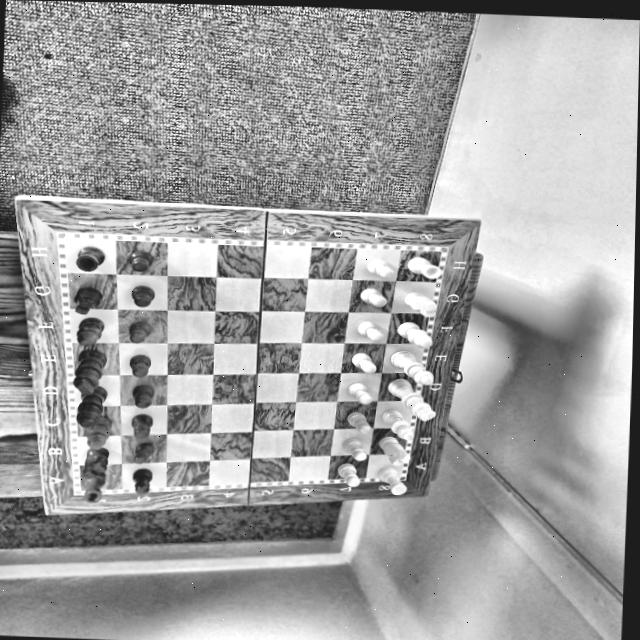black-bishop: (73, 316, 107, 353), (81, 416, 115, 450)
black-king: (67, 350, 115, 398)
black-knight: (69, 285, 109, 321), (77, 446, 113, 482)
black-pawn: (124, 466, 162, 498), (129, 383, 160, 410), (129, 410, 156, 439), (131, 282, 160, 308), (125, 353, 156, 377), (130, 441, 161, 464), (128, 247, 157, 271), (127, 319, 150, 344)
black-queen: (70, 385, 112, 431)
black-rook: (71, 244, 114, 275), (79, 472, 111, 506)
white-bishop: (395, 319, 434, 348), (380, 409, 415, 440)
white-king: (389, 376, 439, 422)
white-knight: (401, 289, 443, 319), (376, 437, 411, 465)
white-pawn: (333, 460, 365, 490), (365, 256, 400, 282), (357, 284, 391, 310), (344, 407, 375, 435), (348, 349, 380, 374), (355, 321, 390, 342), (345, 438, 370, 461), (349, 384, 375, 405)
white-queen: (388, 348, 439, 385)
white-rook: (373, 466, 410, 501), (407, 253, 442, 280)
